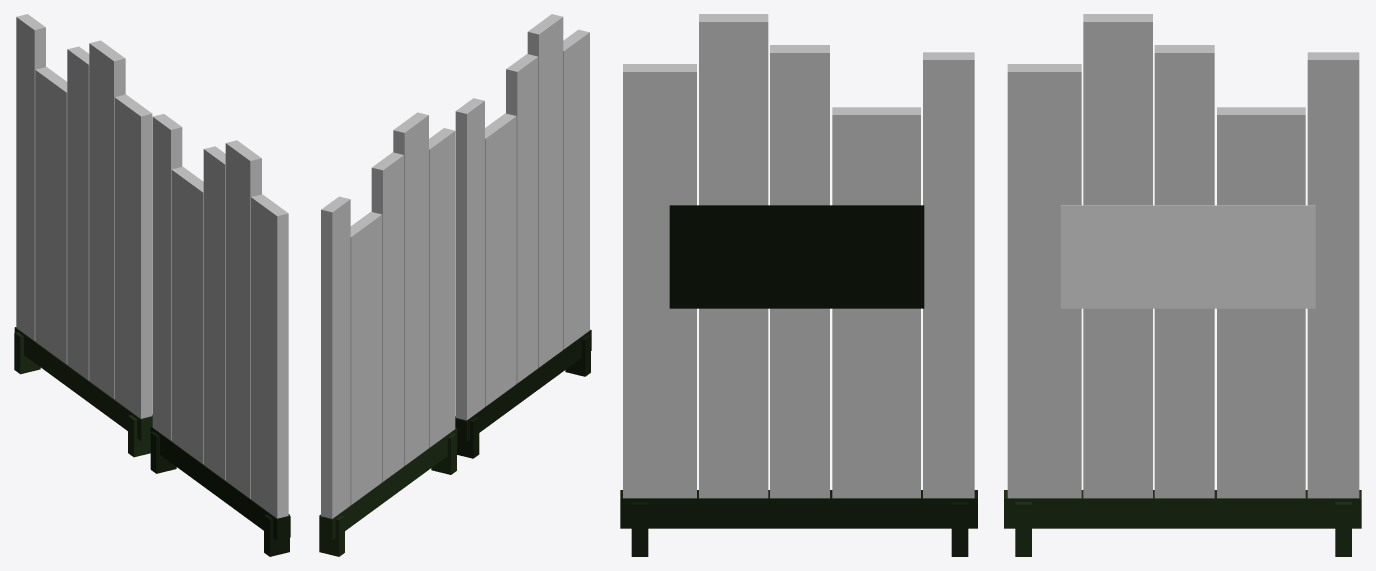
File: dosky (1).fbx
3 views of the same model, side by side, from view 1: azimuth 30°, elevation 25°; view 2: azimuth 150°, elevation 25°; view 3: azimuth 270°, elevation 25° (orthographic). The views are drawn at different scales.
Visible parts, largest first — view 1: copyD, D, copydown, down; view 2: D, copyD, down, copydown; view 3: D, copyD, tablichka, tablichkacopy, copydown, down.
Part boxes in pixels (bbox=[...]): copyD: bbox=[152, 114, 288, 518]; D: bbox=[16, 14, 152, 418]; copydown: bbox=[150, 426, 290, 556]; down: bbox=[14, 327, 152, 457]; D: bbox=[321, 112, 455, 518]; copyD: bbox=[455, 14, 589, 420]; down: bbox=[319, 428, 457, 556]; copydown: bbox=[455, 329, 591, 458]; D: bbox=[1007, 14, 1359, 498]; copyD: bbox=[623, 14, 974, 498]; tablichka: bbox=[1060, 205, 1315, 308]; tablichkacopy: bbox=[669, 205, 924, 308]; copydown: bbox=[620, 490, 977, 556]; down: bbox=[1004, 490, 1361, 556].
Size of what is drawn, in the model's own units: 26.37 by 597 by 473.
